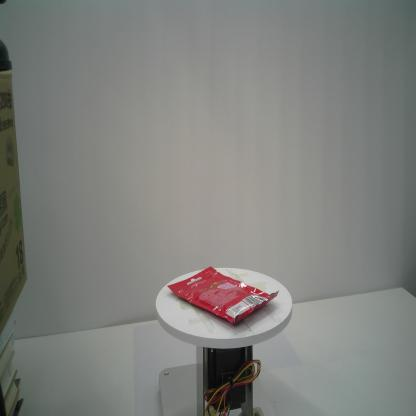Candy: (166, 264, 280, 327)
